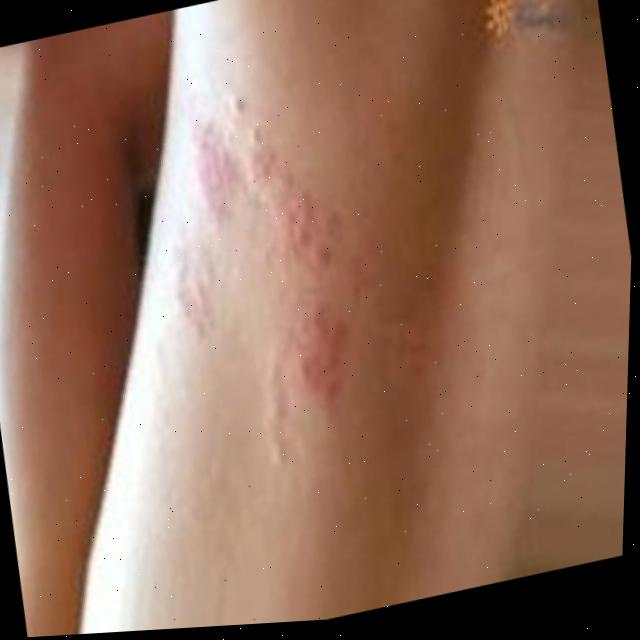Shingles: (134, 84, 386, 452)
